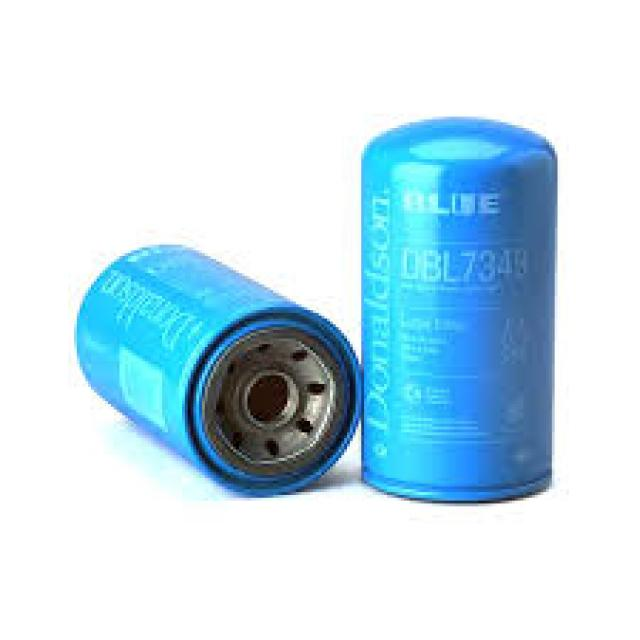oil_filter: (356, 122, 565, 510), (36, 256, 355, 501)
